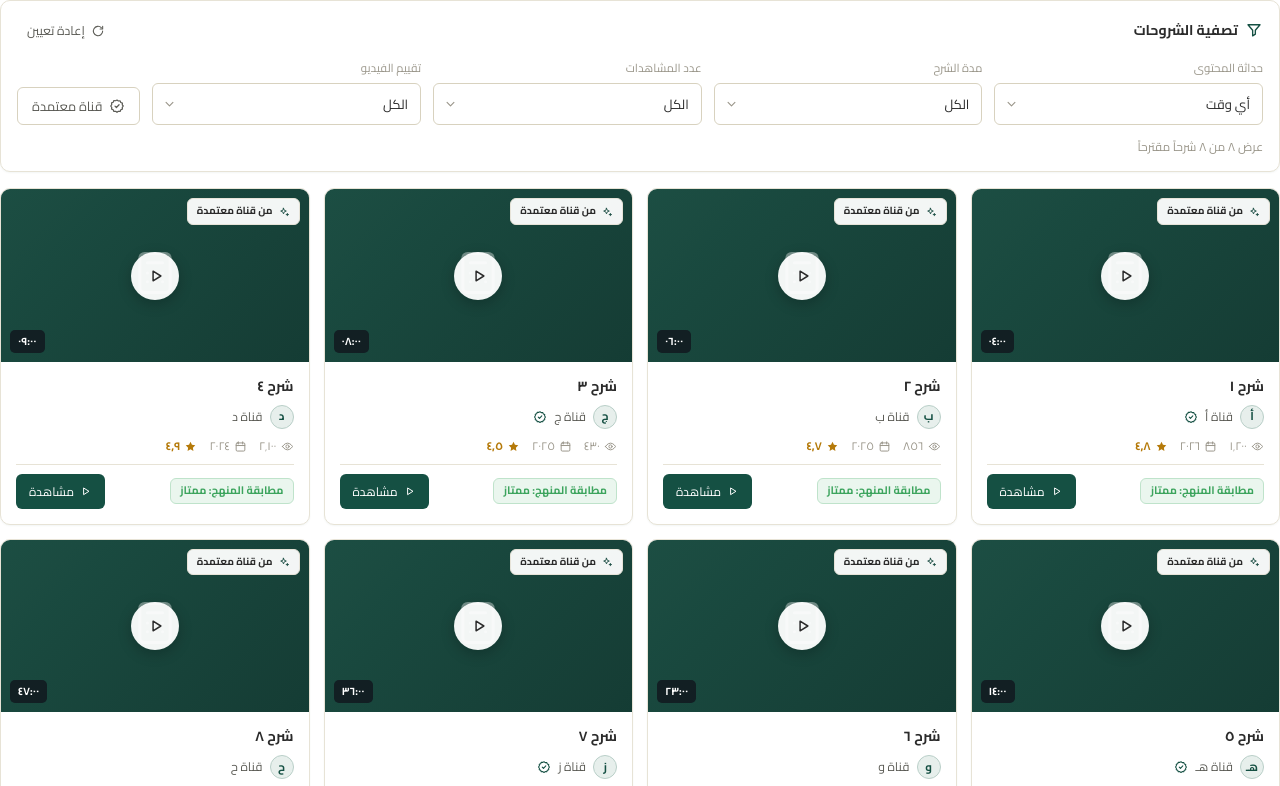
filtering by duration narrows the visible cards and updates the count
Select "أقل من ١٠ دقائق" in the dropdown labelled "مدة الشرح" at (848, 104), box [714,83,982,125]
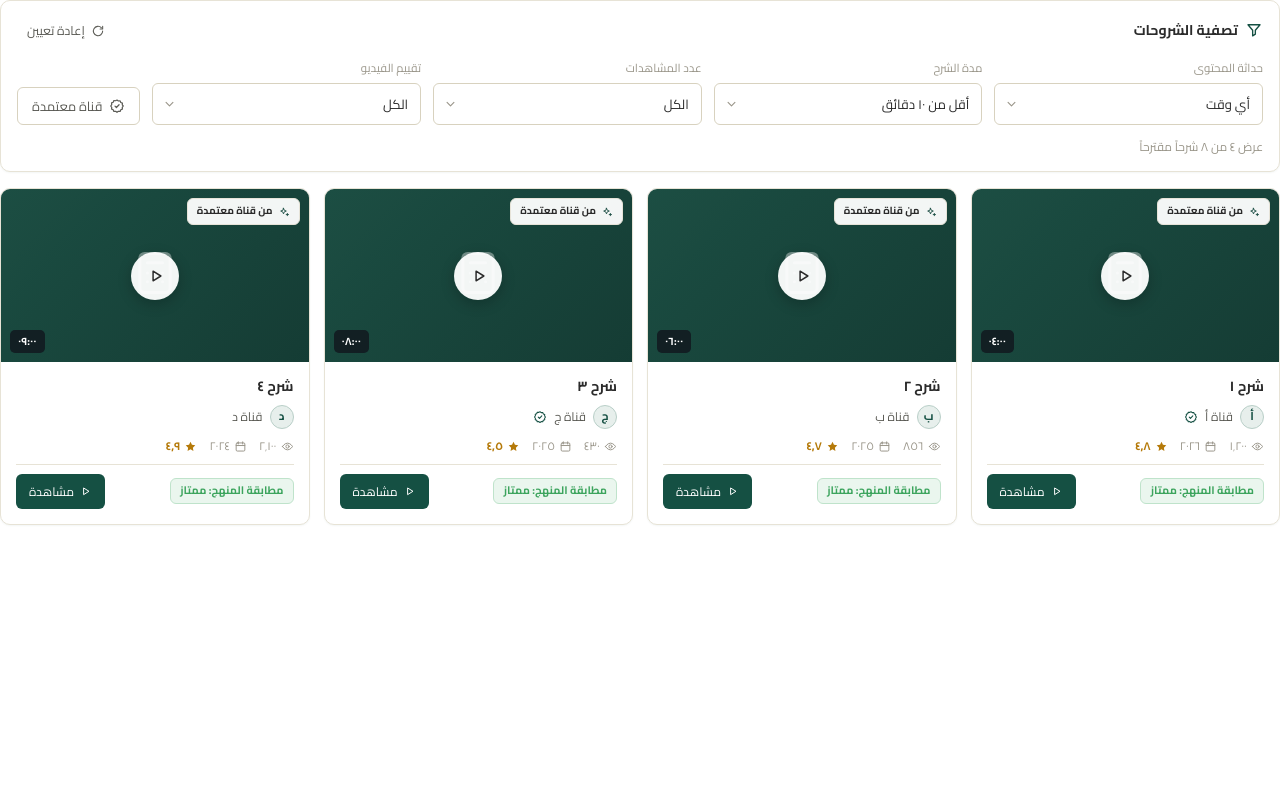
Now the text "عرض ٤ من ٨ شرحاً مقترحاً" is shown, box [1139,135,1263,158]
